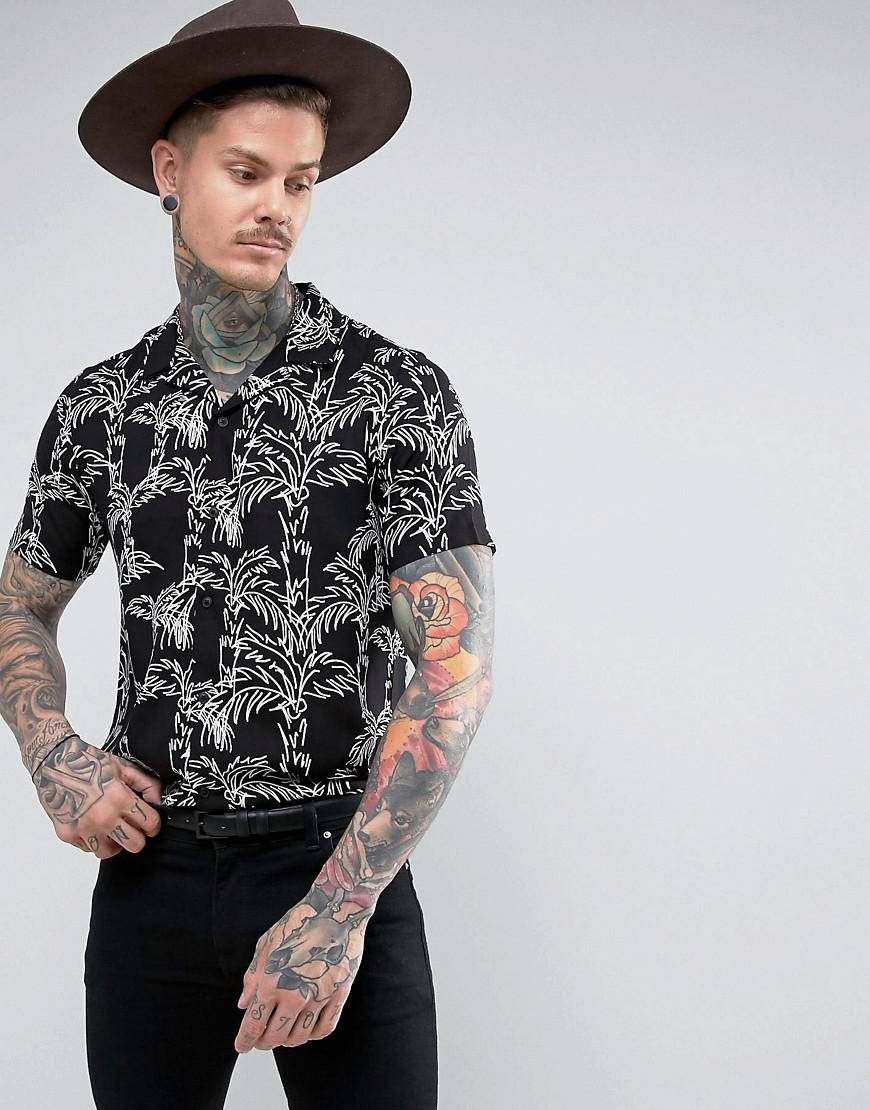teeshirt: (22, 285, 508, 822)
